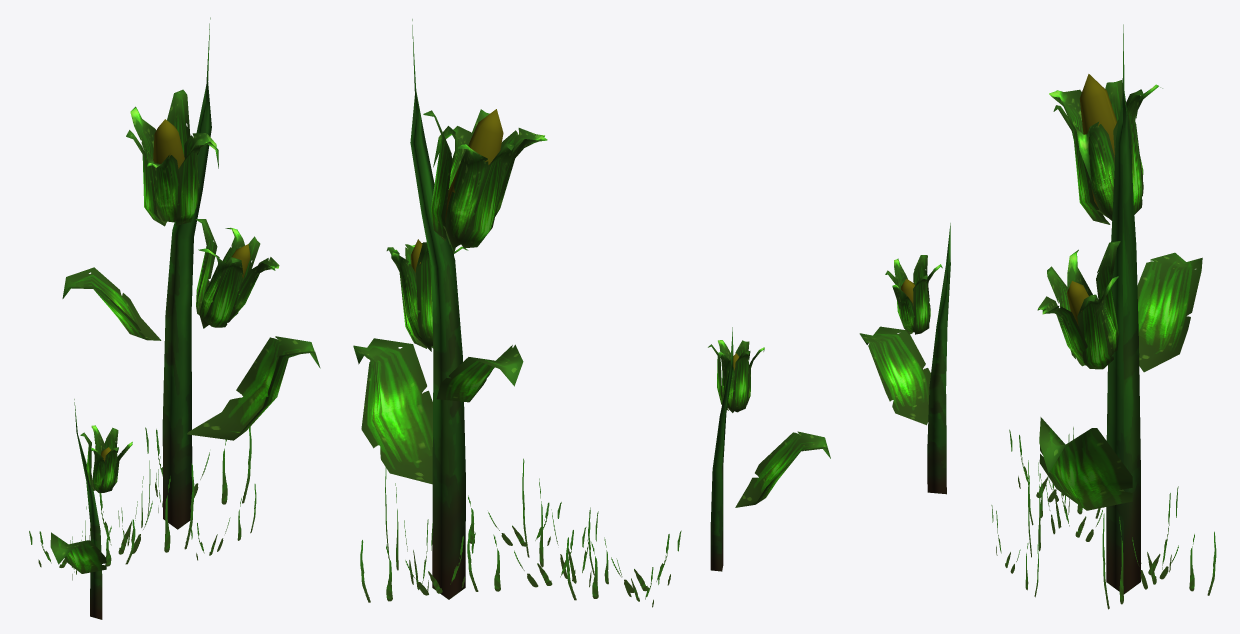
Rendered from corn_stage1.FBX.
3 renders of one model, left to right at view 1: azimuth 30°, elevation 25°; view 2: azimuth 150°, elevation 25°; view 3: azimuth 270°, elevation 25°, orthographic. The views are drawn at different scales.
Parts seen in each view (by area): view 1: corn_stage1; view 2: corn_stage1; view 3: corn_stage1.
Boxes of the visible parts, x1,y1,x2,y2 form: corn_stage1: (29, 17, 320, 619); corn_stage1: (353, 19, 830, 607); corn_stage1: (859, 24, 1216, 609).
Size of the model in its own units: 2.68 by 3.76 by 2.11.
1 material, 1 textured.
